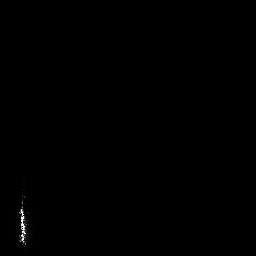ship: (17, 192, 30, 249)
